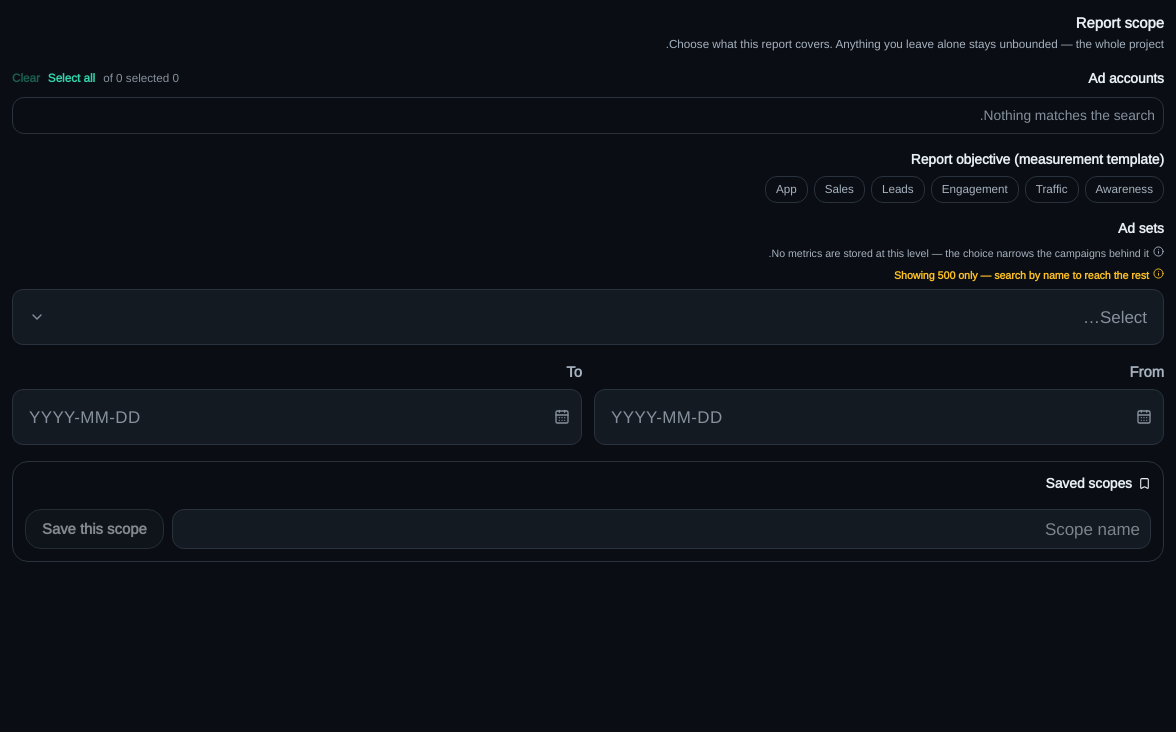
Test: searching an axis the list could not hold › asks the server once the term is worth a request
Click the dropdown: (1123, 317) x1=12 y1=289 x2=1164 y2=345
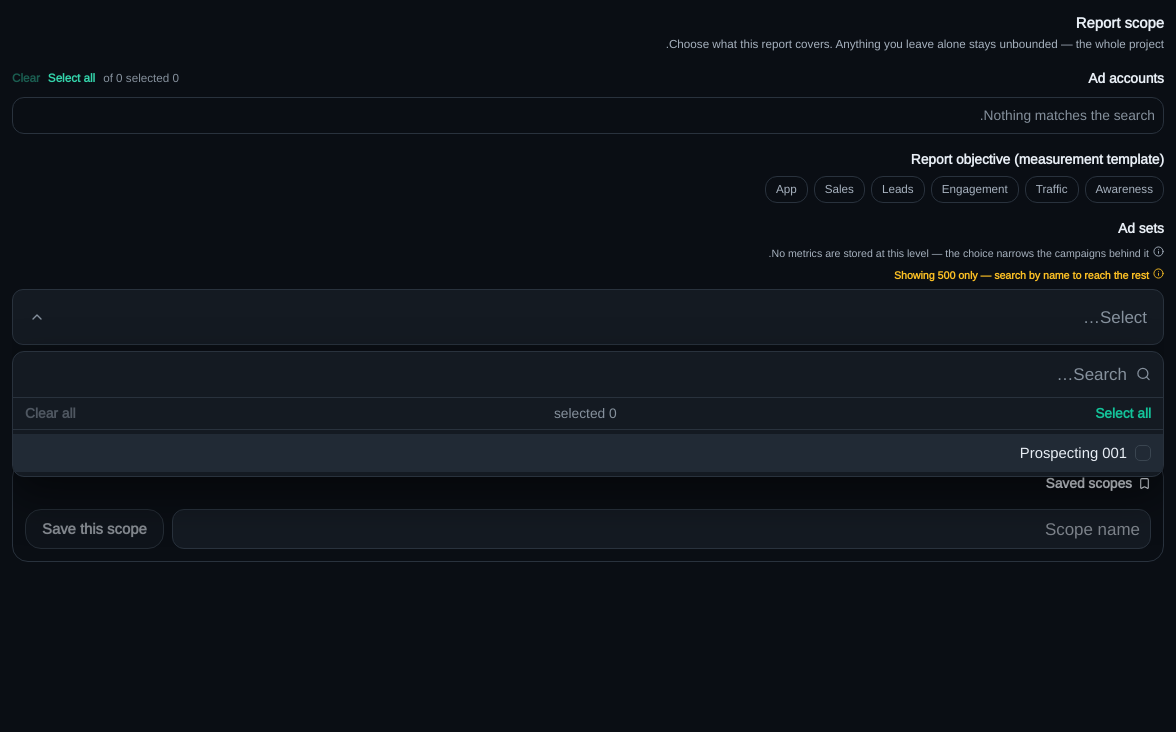
In the dropdown with placeholder "Search…": (588, 374) x1=13 y1=352 x2=1163 y2=397, type "ram"
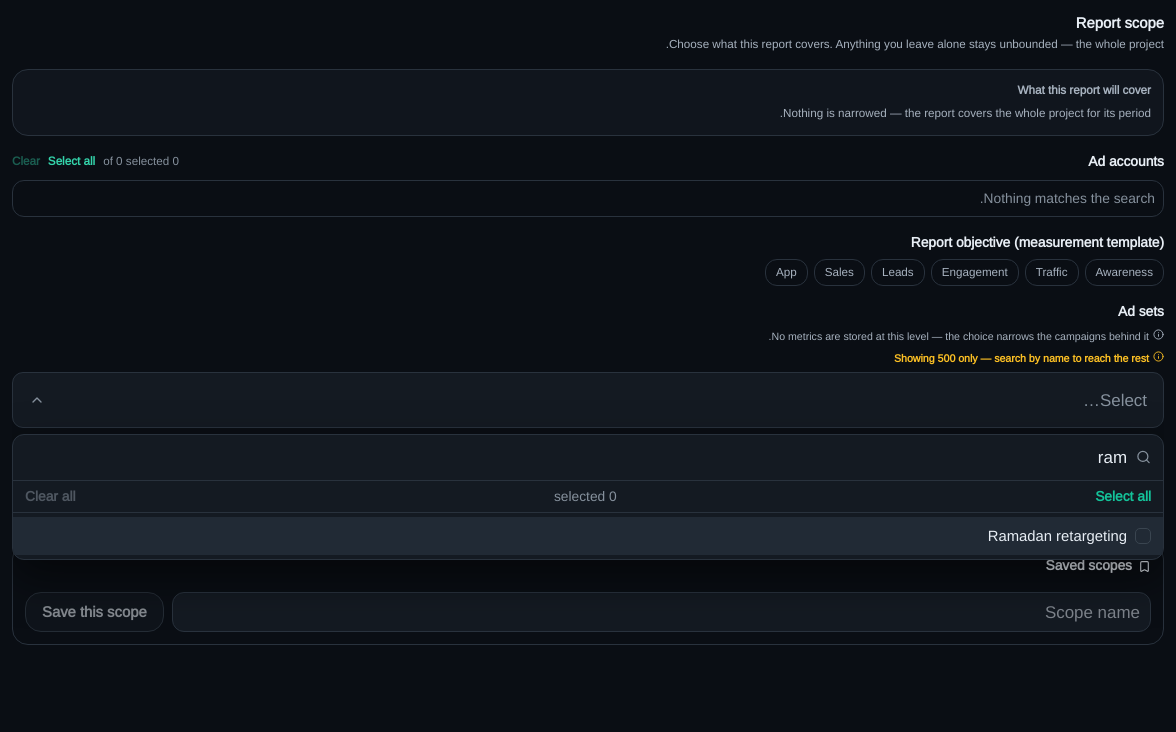
Expected: the text "Ramadan retargeting" is shown, x1=988 y1=527 x2=1127 y2=544
